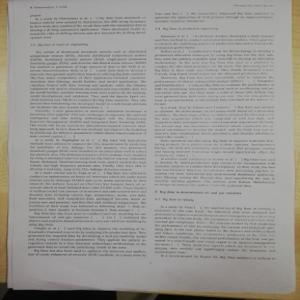text: (29, 138, 146, 224), (155, 202, 279, 261), (30, 50, 147, 110), (154, 50, 277, 105), (153, 139, 278, 187), (28, 225, 147, 259), (152, 107, 278, 139), (28, 110, 149, 139), (29, 14, 148, 39), (151, 32, 278, 50), (152, 10, 274, 25), (30, 41, 93, 47)
